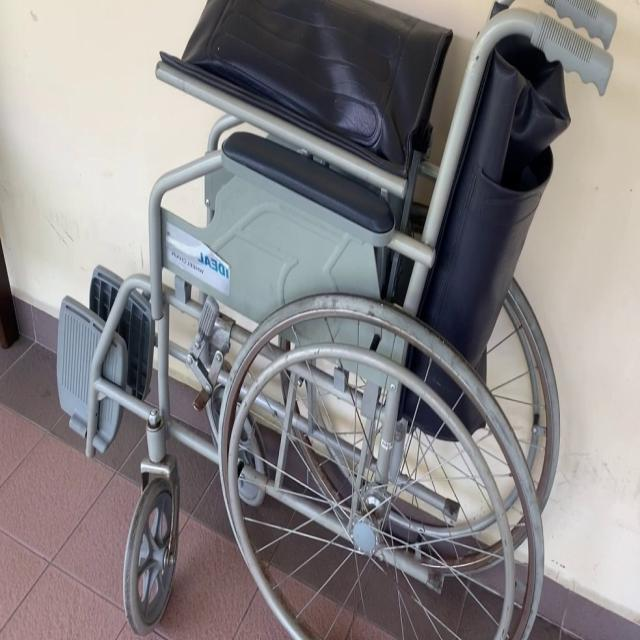wheelchair: (38, 0, 619, 640)
